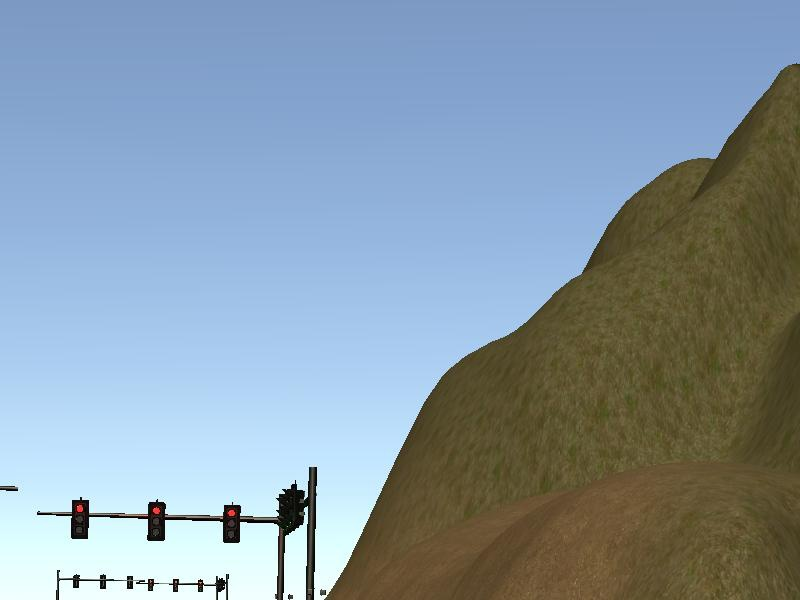Red: (69, 498, 90, 540), (145, 501, 166, 543), (222, 503, 243, 545)
